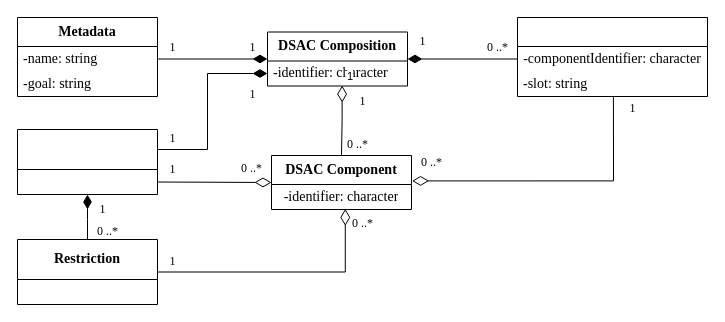
Some shapes in this 725 by 322 pixel diagram are drawn without their labels. Each missing label, with the box of its shape:
Communication Configuration: (16, 128, 158, 194)
Layout: (516, 16, 708, 96)
